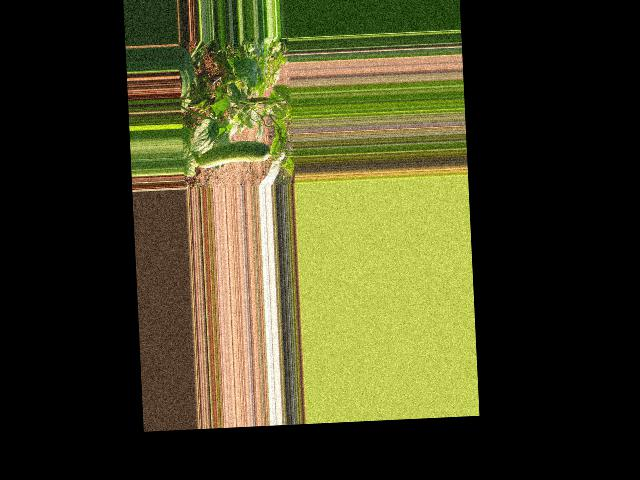cucumber: (196, 140, 270, 168)
